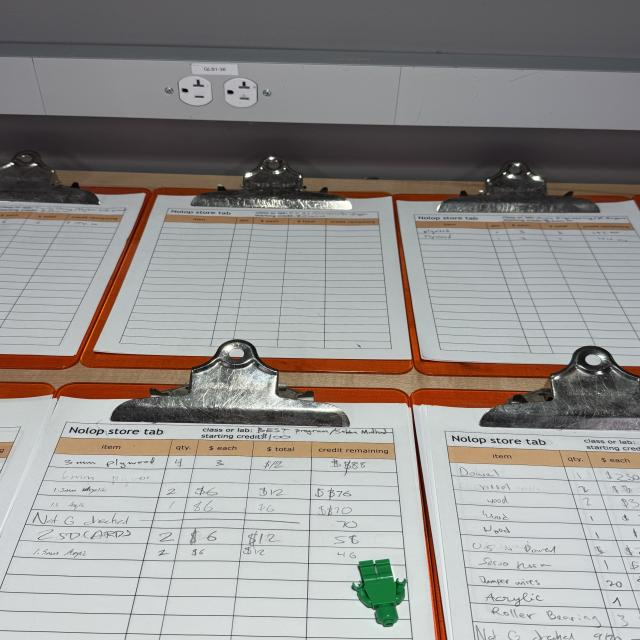Green Mini Figure: (352, 559, 407, 628)
